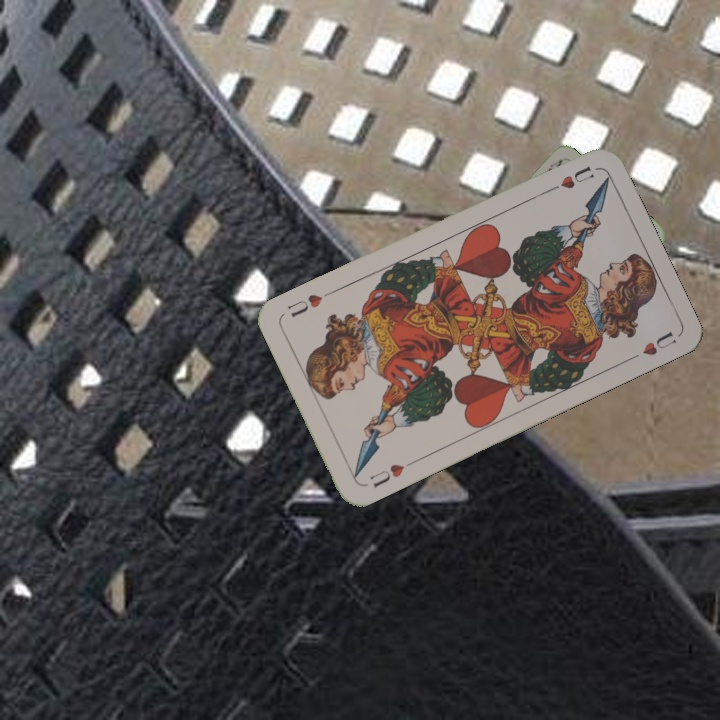HU: (542, 162, 596, 195), (365, 459, 407, 490)
